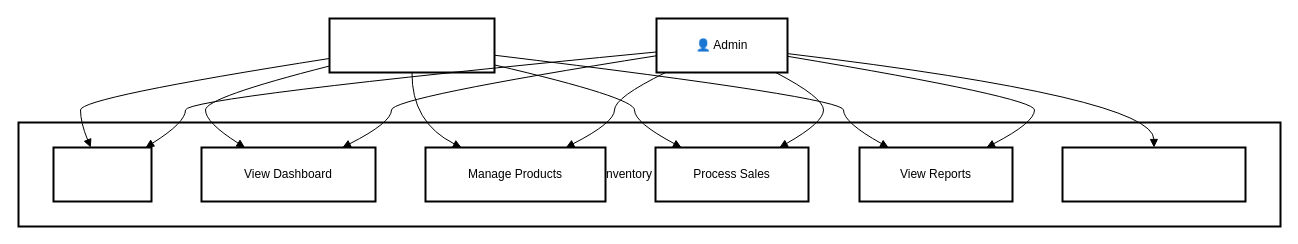
The diagram is 1298 pixels wide and 244 high, and some of its shapes have lost their labels. Here are the shapes that lost their labels. From the top down, the centre of each, then its label:
At (x=411, y=45): "👤 Sales Clerk".
At (x=102, y=174): "Login".
At (x=1153, y=174): "Manage Suppliers".
